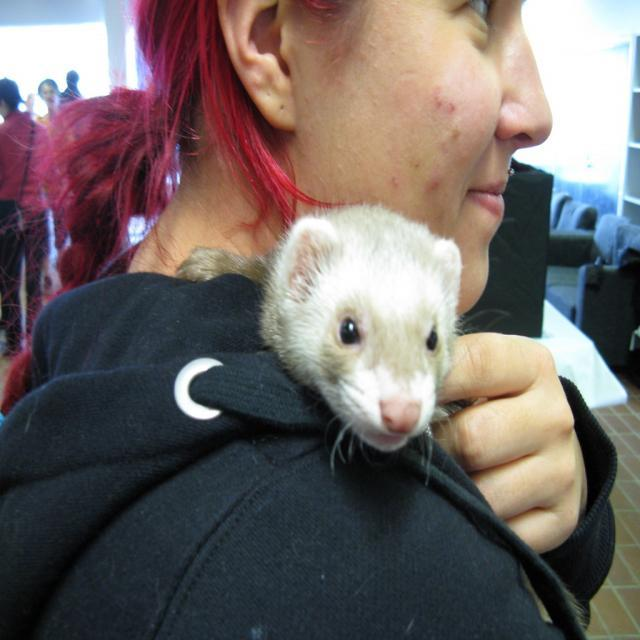rat: (256, 199, 465, 454)
